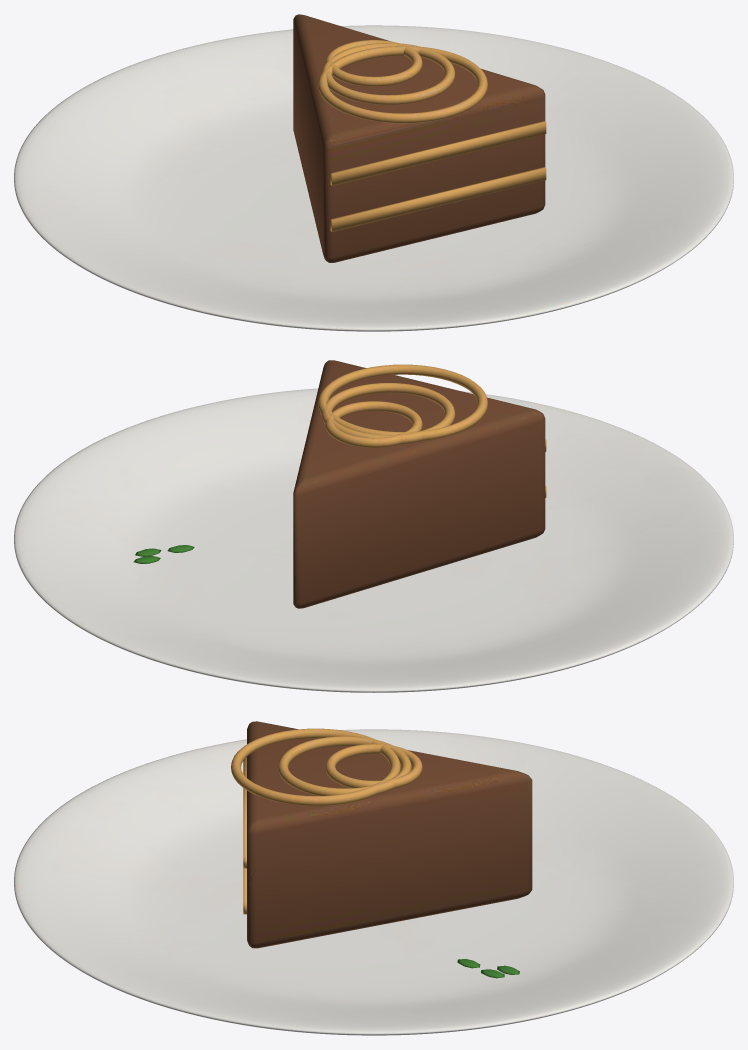
The model's file is torta-chocolate.glb.
3 views of the same model, one above another, from view 1: azimuth 30°, elevation 25°; view 2: azimuth 150°, elevation 25°; view 3: azimuth 270°, elevation 25° (orthographic).
Visible parts, largest first — view 1: torta-chocolate; view 2: torta-chocolate; view 3: torta-chocolate.
Part boxes in pixels (x1,y1,x2,y2): torta-chocolate: (14, 14, 733, 331); torta-chocolate: (14, 360, 733, 692); torta-chocolate: (14, 721, 733, 1035).
Size of the model in its own units: 0.2576 by 0.0584 by 0.2576.
1 material, 1 textured.
